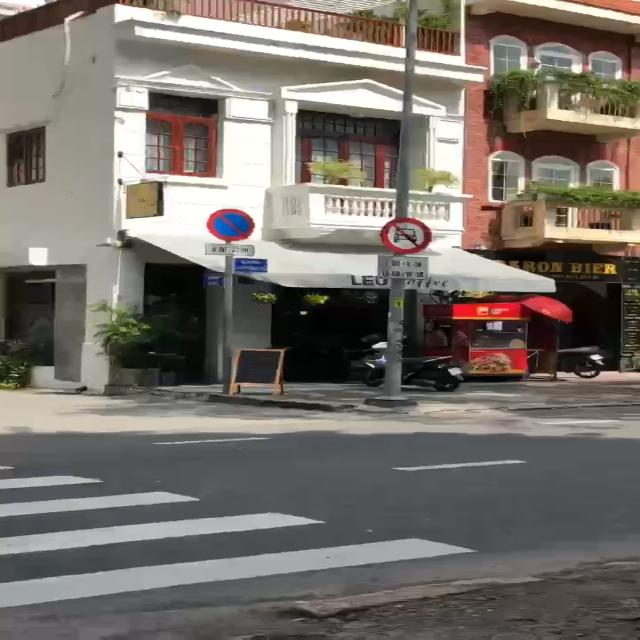Bien bao cam do xe: (206, 206, 256, 244)
Bien bao cam xe oto: (374, 213, 433, 254)
